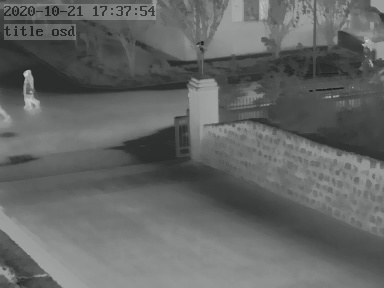person: (21, 68, 39, 110)
